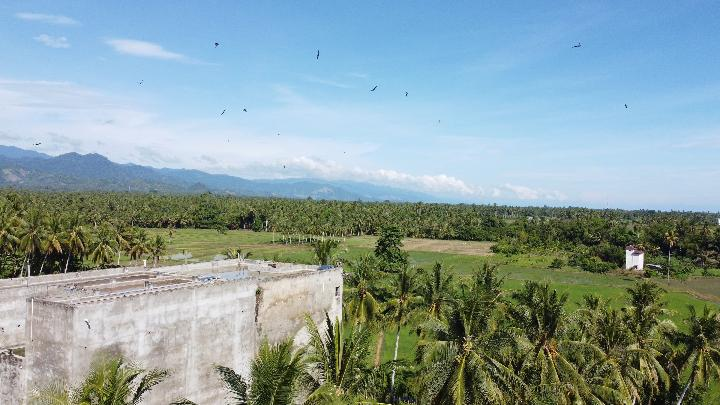walet: (369, 86, 378, 96), (570, 42, 584, 48), (218, 108, 228, 116), (242, 107, 250, 116), (316, 46, 320, 60), (212, 42, 219, 48), (624, 102, 630, 107), (404, 90, 408, 96)
